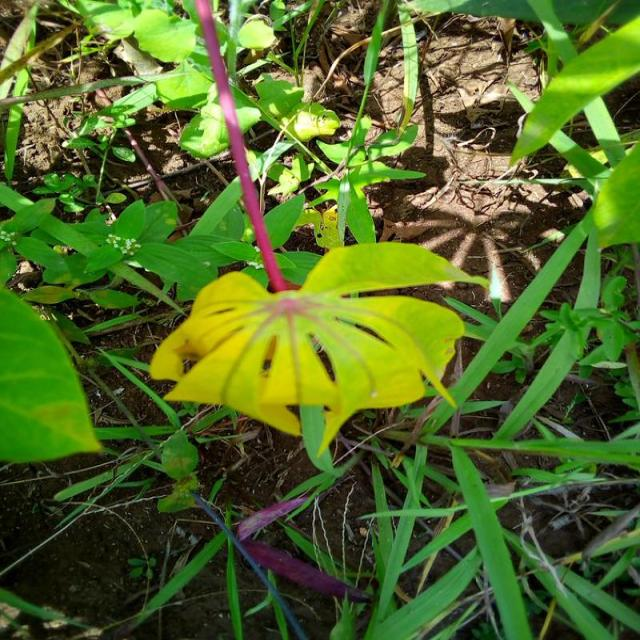cassava leaf: (148, 238, 489, 471), (0, 285, 102, 464)
